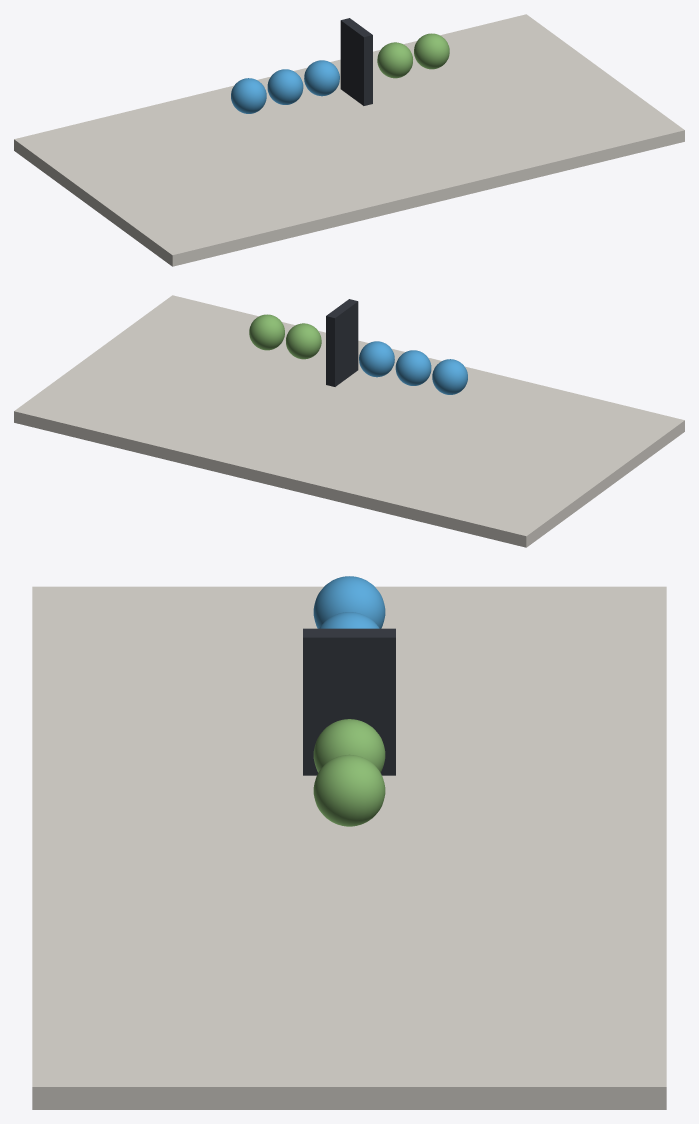
File: math-fractions-ratio.glb
3 renders of one model, top to bottom at view 1: azimuth 30°, elevation 25°; view 2: azimuth 150°, elevation 25°; view 3: azimuth 270°, elevation 25°, orthographic. The views are drawn at different scales.
Visible parts, largest first — view 1: manipulative-base, ratio-divider, ratio-green-1, ratio-green-2, ratio-blue-2, ratio-blue-1, ratio-blue-3; view 2: manipulative-base, ratio-divider, ratio-green-1, ratio-green-2, ratio-blue-2, ratio-blue-1, ratio-blue-3; view 3: manipulative-base, ratio-divider, ratio-green-2, ratio-blue-1, ratio-green-1.
Boxes of the visible parts, left/top/right/bottom form: manipulative-base: left=14, top=14, right=684, bottom=266; ratio-divider: left=340, top=18, right=372, bottom=105; ratio-green-1: left=377, top=42, right=412, bottom=78; ratio-green-2: left=414, top=33, right=449, bottom=69; ratio-blue-2: left=267, top=69, right=303, bottom=104; ratio-blue-1: left=231, top=78, right=266, bottom=113; ratio-blue-3: left=304, top=60, right=339, bottom=96; manipulative-base: left=14, top=295, right=684, bottom=547; ratio-divider: left=326, top=299, right=358, bottom=386; ratio-green-1: left=286, top=323, right=321, bottom=359; ratio-green-2: left=249, top=314, right=284, bottom=350; ratio-blue-2: left=395, top=350, right=431, bottom=385; ratio-blue-1: left=432, top=359, right=467, bottom=394; ratio-blue-3: left=359, top=341, right=394, bottom=377; manipulative-base: left=32, top=586, right=666, bottom=1109; ratio-divider: left=303, top=628, right=395, bottom=775; ratio-green-2: left=313, top=754, right=385, bottom=826; ratio-blue-1: left=313, top=576, right=385, bottom=628; ratio-green-1: left=313, top=719, right=385, bottom=772.
Size of what is drawn, in the model's own units: 2.8 by 0.61 by 1.5.
